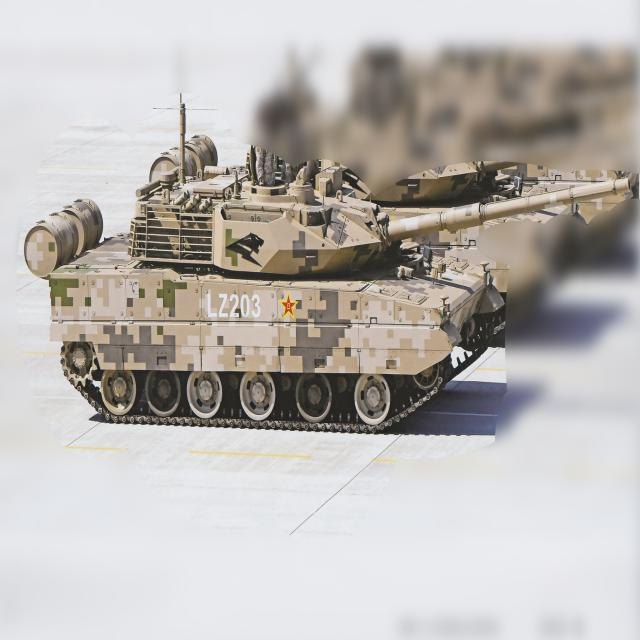tank: (26, 89, 631, 430)
